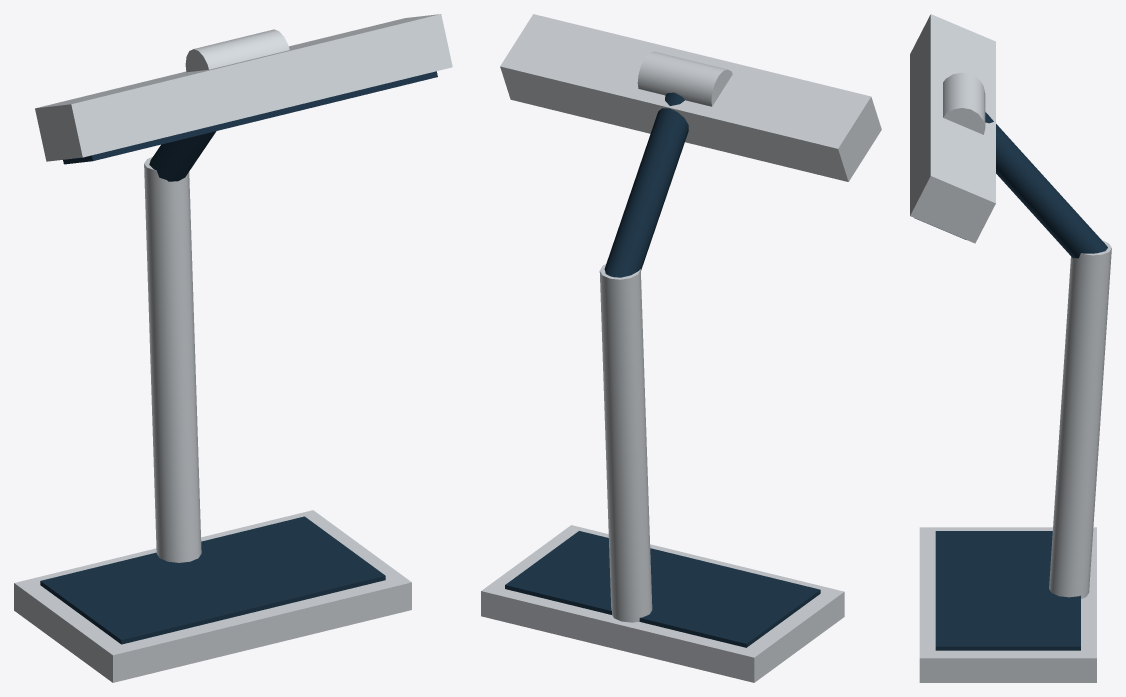
3 renders of one model, left to right at view 1: azimuth 30°, elevation 25°; view 2: azimuth 150°, elevation 25°; view 3: azimuth 270°, elevation 25°, orthographic. The views are drawn at different scales.
Visible parts, largest first — view 1: lamp-head-shell, lamp-base-trim, lamp-base, lamp-riser-lower, lamp-head-rim, lamp-hinge, lamp-riser-upper; view 2: lamp-head-shell, lamp-base-trim, lamp-base, lamp-riser-lower, lamp-riser-upper, lamp-hinge; view 3: lamp-base-trim, lamp-head-shell, lamp-riser-lower, lamp-base, lamp-riser-upper, lamp-hinge.
Part boxes in pixels (left/top/right/bottom): lamp-head-shell: left=35, top=14, right=452, bottom=161; lamp-base-trim: left=40, top=516, right=385, bottom=644; lamp-base: left=14, top=510, right=411, bottom=682; lamp-riser-lower: left=144, top=157, right=201, bottom=562; lamp-head-rim: left=63, top=71, right=437, bottom=164; lamp-hinge: left=185, top=29, right=289, bottom=72; lamp-riser-upper: left=149, top=131, right=216, bottom=181; lamp-head-shell: left=500, top=14, right=881, bottom=181; lamp-base-trim: left=505, top=531, right=820, bottom=647; lamp-base: left=481, top=525, right=844, bottom=682; lamp-riser-lower: left=599, top=264, right=652, bottom=622; lamp-riser-upper: left=604, top=92, right=688, bottom=277; lamp-hinge: left=637, top=51, right=732, bottom=106; lamp-base-trim: left=935, top=531, right=1080, bottom=650; lamp-head-shell: left=910, top=14, right=995, bottom=243; lamp-riser-lower: left=1049, top=240, right=1111, bottom=598; lamp-base: left=919, top=527, right=1096, bottom=682; lamp-riser-upper: left=985, top=112, right=1107, bottom=258; lamp-hinge: left=943, top=72, right=985, bottom=134.
Bounding box in the file's own units: 0.266 × 0.404 × 0.1402.
